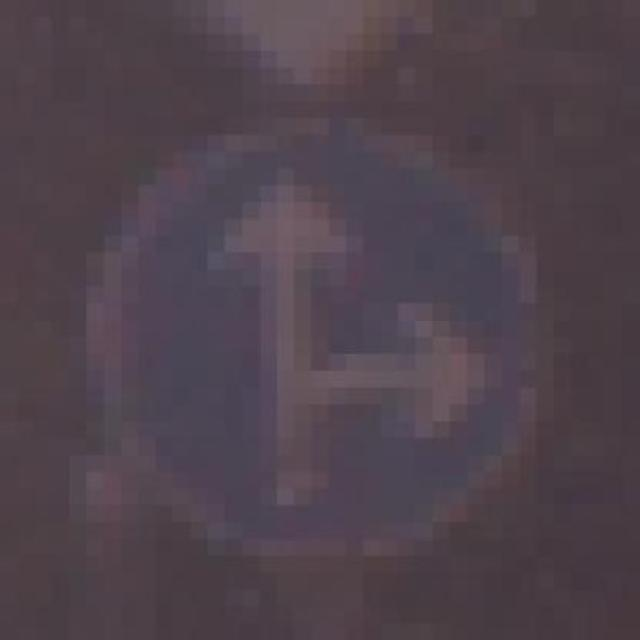Go Straight or Turn Right: (69, 84, 571, 607)
